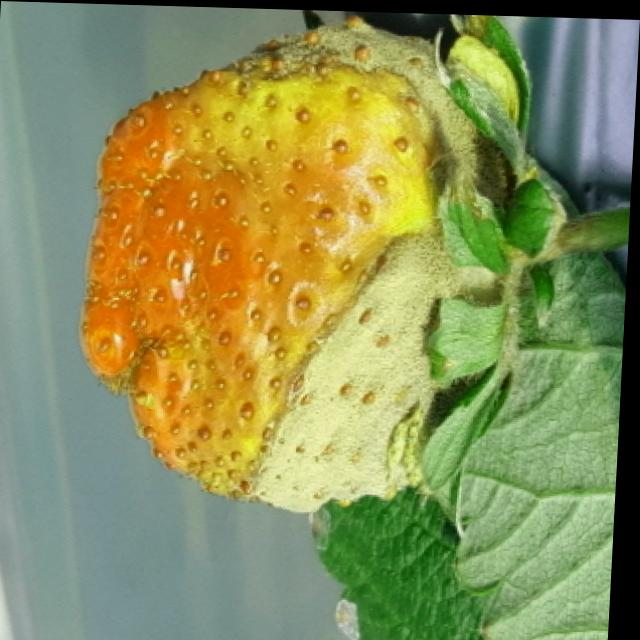Gray Mold: (79, 10, 514, 510)
